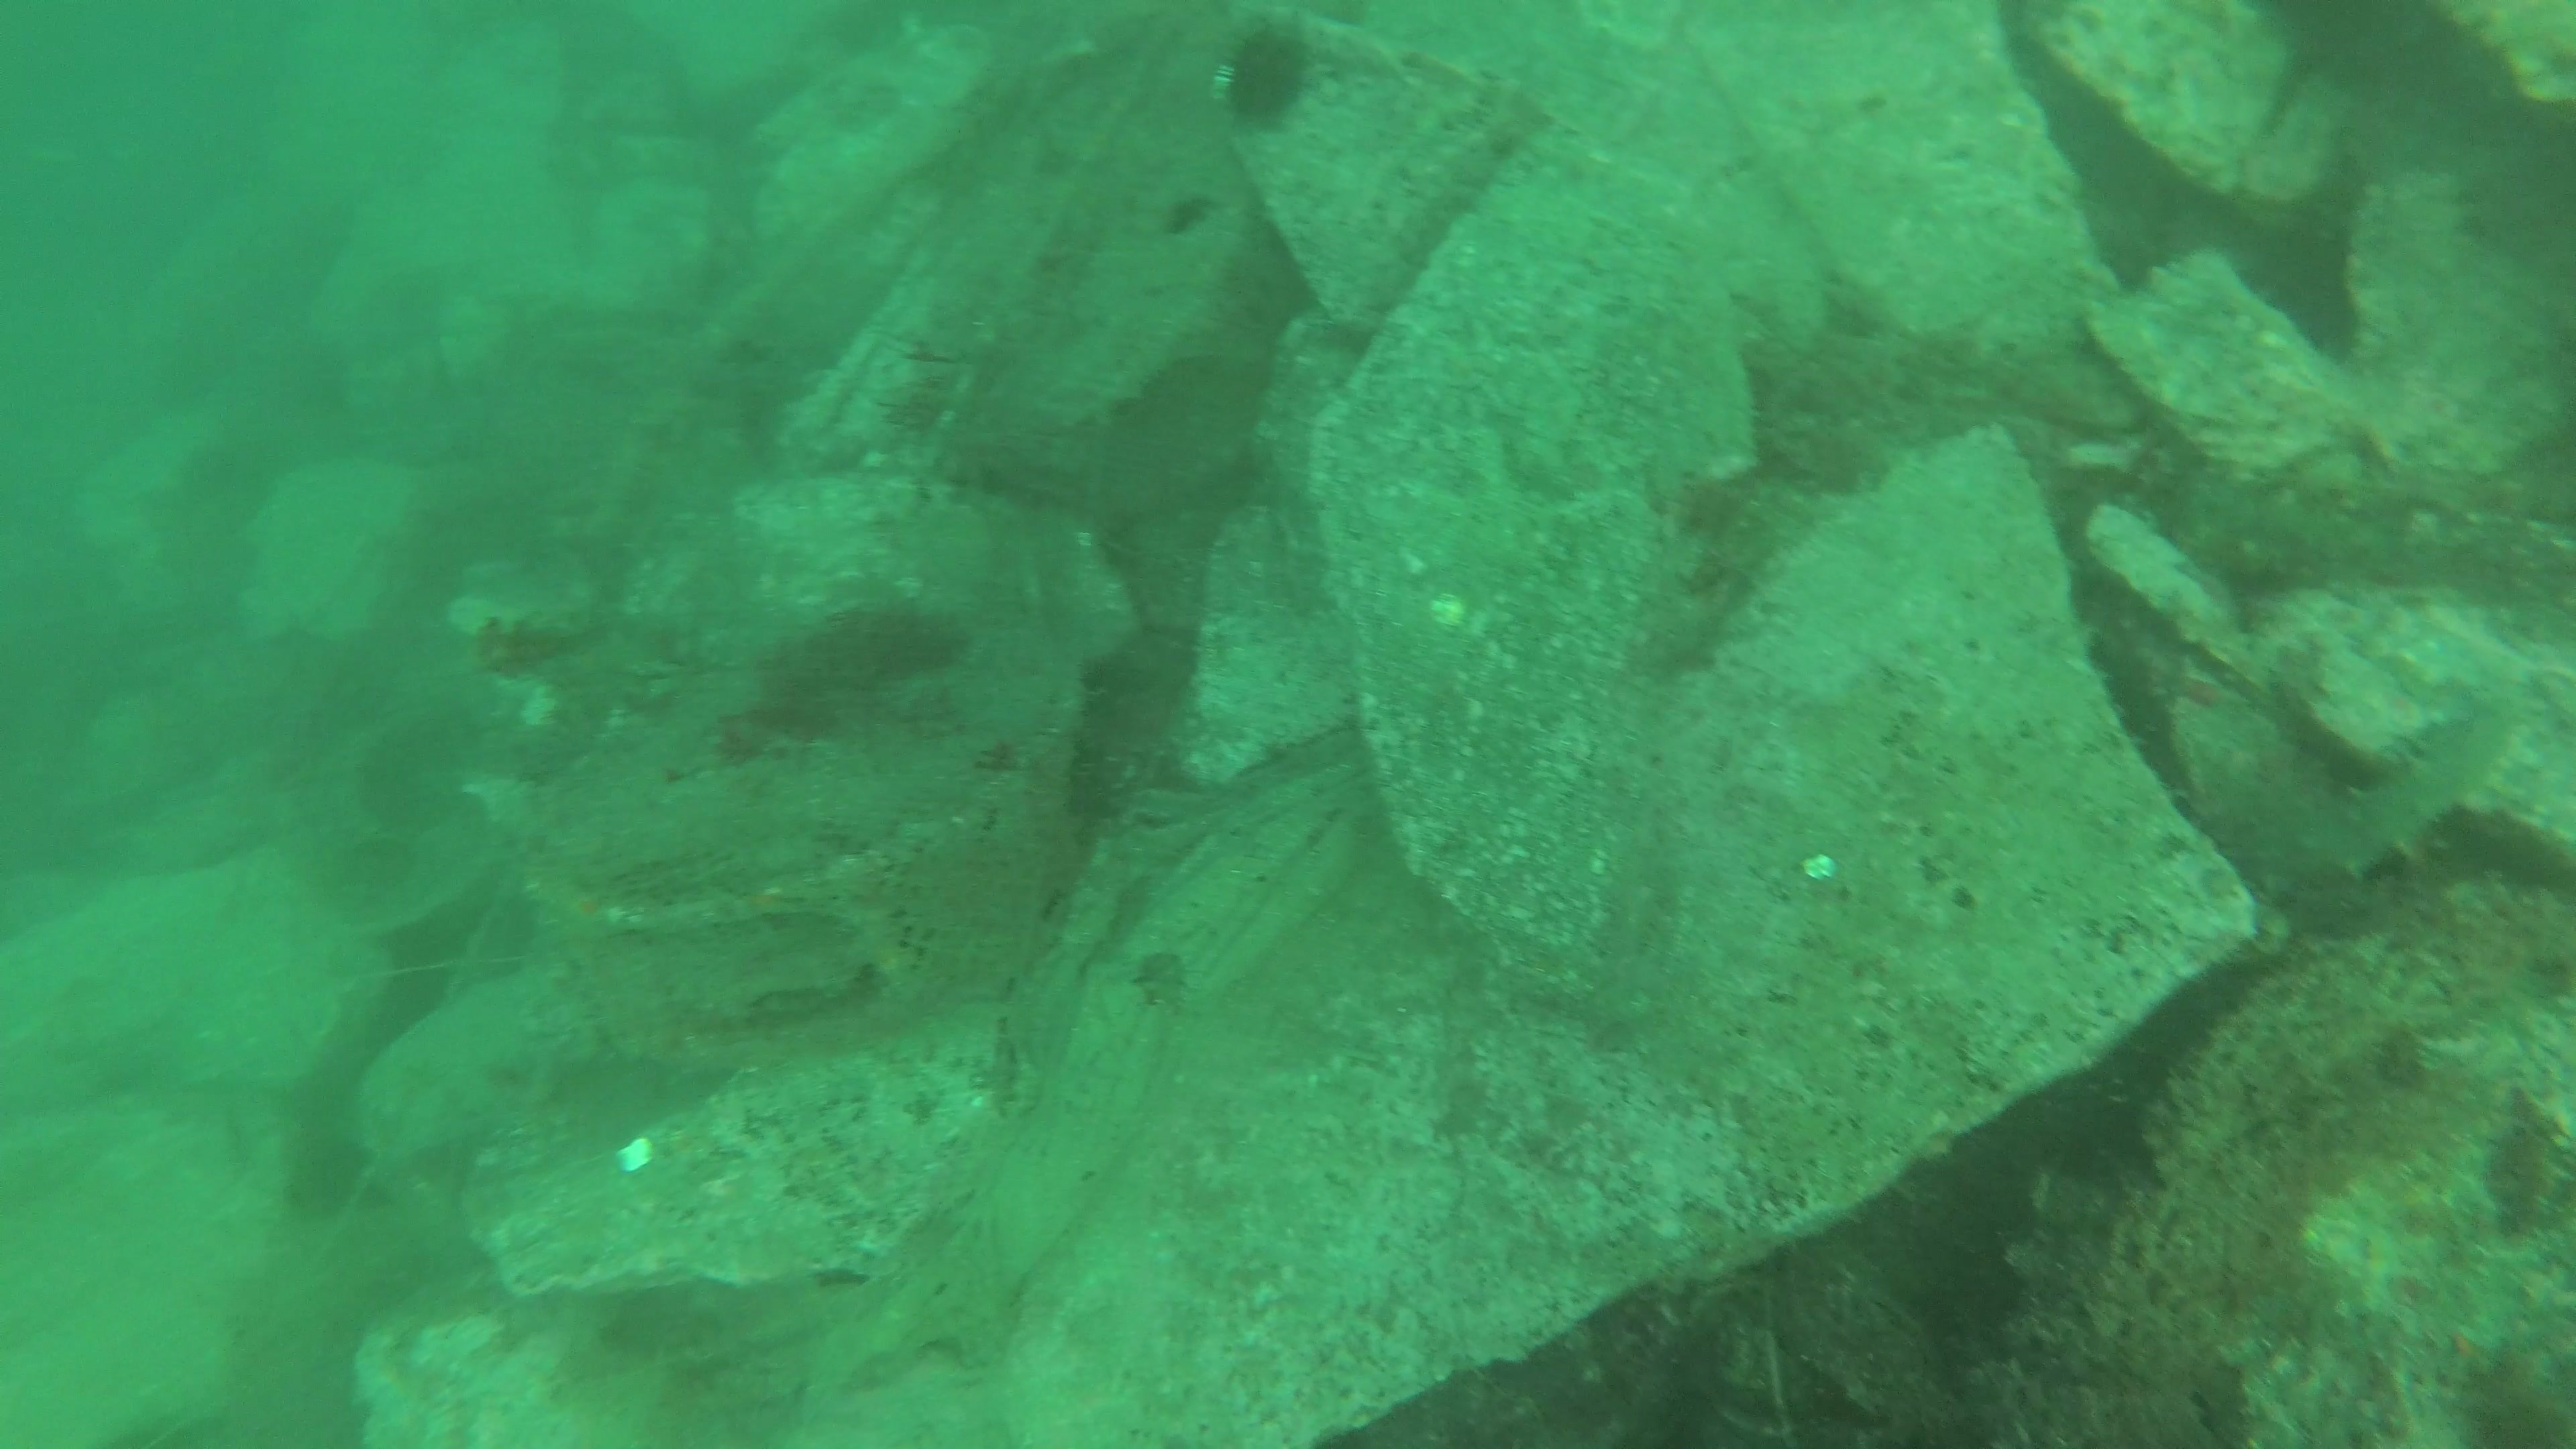echinus: (1210, 18, 1323, 136)
holothurian: (2284, 674, 2560, 892)
